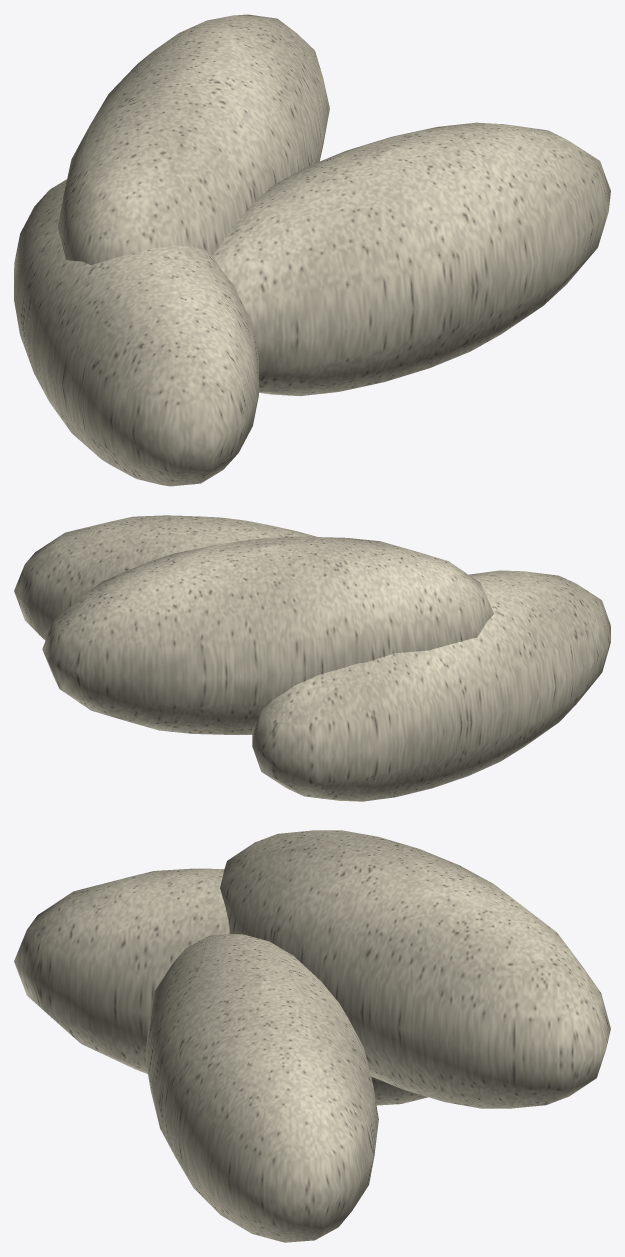
The model's file is food-02-residue.glb.
3 views of the same model, one above another, from view 1: azimuth 30°, elevation 25°; view 2: azimuth 150°, elevation 25°; view 3: azimuth 270°, elevation 25° (orthographic). The views are drawn at different scales.
Parts seen in each view (by area): view 1: Food; view 2: Food; view 3: Food.
Part boxes in pixels (x1,y1,x2,y2): Food: [14, 14, 610, 486]; Food: [14, 515, 610, 801]; Food: [14, 830, 610, 1242].
Bounding box in the file's own units: 0.1557 × 0.0738 × 0.1372.
Materials: 1 (1 with a texture image).
